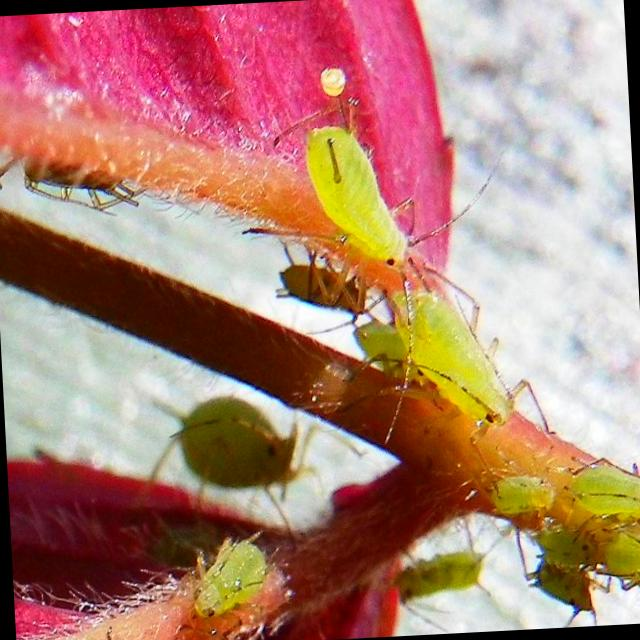Aphid: (255, 85, 513, 339), (352, 272, 540, 464), (160, 398, 311, 530)
